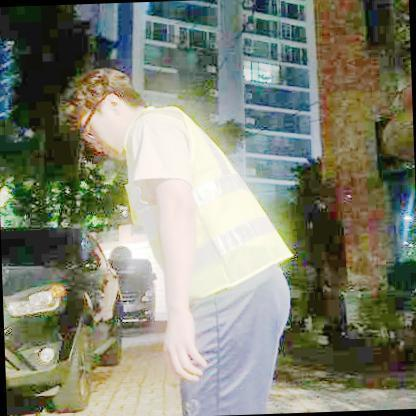no-helmet: (50, 64, 135, 134)
vest: (119, 100, 299, 304)
